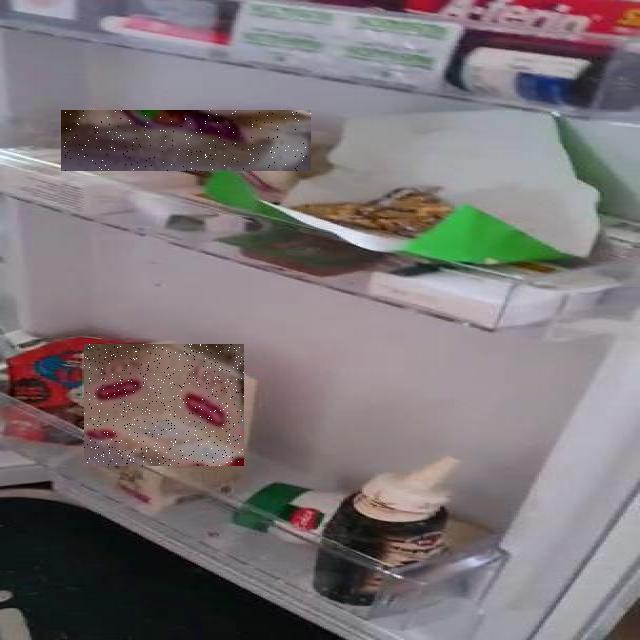Milk: (84, 344, 244, 466)
Sauce: (61, 110, 311, 171)
